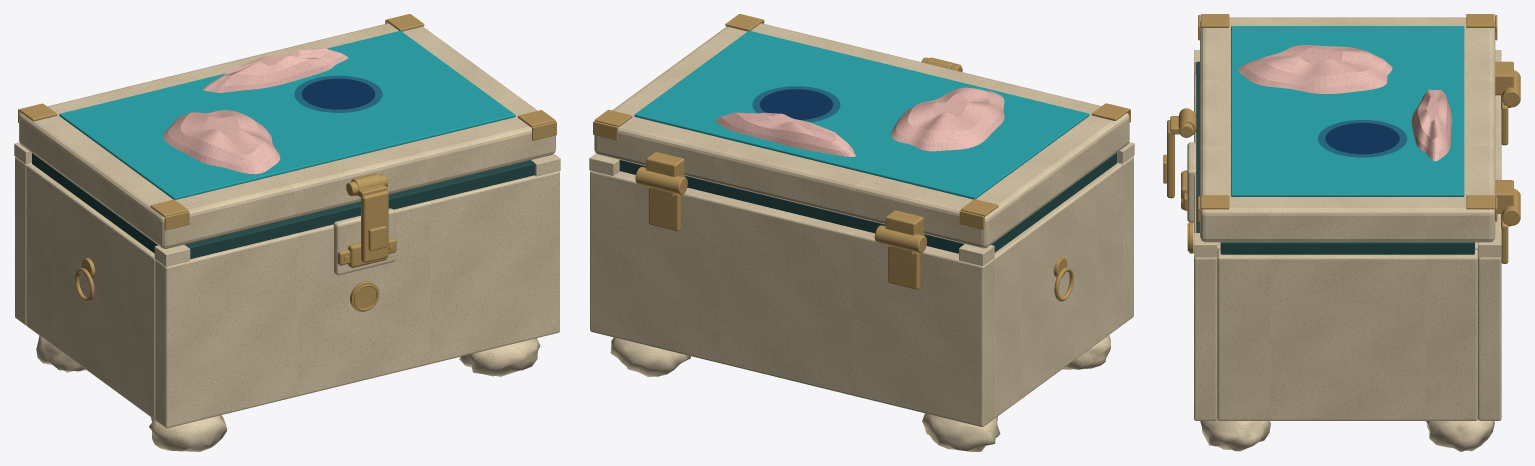
Rendered from bahamas.glb.
The picture shows the model from 3 angles, left to right: view 1: azimuth 30°, elevation 25°; view 2: azimuth 150°, elevation 25°; view 3: azimuth 270°, elevation 25°; orthographic projection.
Parts seen in each view (by area): view 1: Limestone / wall, Lid / polished slab, Lagoon / aquamarine inset, Limestone / side, Mineral seam / long, Pink shore / long bank, Pink shore / northern cay, Granite foot, Limestone / wall.001, Granite foot.002, Blue hole / deep center, Latch / lifting hasp (+6 smaller); view 2: Limestone / wall.001, Lid / polished slab, Lagoon / aquamarine inset, Limestone / side, Pink shore / long bank, Pink shore / northern cay, Mineral seam / long.001, Granite foot.001, Limestone / wall, Granite foot.003, Blue hole / deep center, Mineral seam / side (+10 smaller); view 3: Limestone / side.001, Lagoon / aquamarine inset, Lid / polished slab, Pink shore / long bank, Limestone / wall.001, Limestone / wall, Mineral seam / side.001, Pink shore / northern cay, Blue hole / deep center, Granite foot.002, Granite foot.003, Blue hole / rim (+13 smaller).
Boxes of the visible parts, x1,y1,x2,y2 form: Limestone / wall: (155,171,559,428); Lid / polished slab: (19,23,555,248); Lagoon / aquamarine inset: (59,30,515,199); Limestone / side: (26,164,155,419); Mineral seam / long: (184,160,535,258); Pink shore / long bank: (163,110,280,174); Pink shore / northern cay: (203,48,348,92); Granite foot: (149,415,226,451); Limestone / wall.001: (15,157,31,325); Granite foot.002: (459,338,540,376); Blue hole / deep center: (301,78,375,109); Latch / lifting hasp: (361,190,388,262); Limestone / wall.001: (590,170,993,426); Lid / polished slab: (594,23,1129,248); Lagoon / aquamarine inset: (634,30,1089,199); Limestone / side: (993,163,1122,418); Pink shore / long bank: (891,87,1004,151); Pink shore / northern cay: (715,112,855,156); Mineral seam / long.001: (619,160,964,253); Granite foot.001: (922,413,1000,451); Limestone / wall: (1117,156,1133,324); Granite foot.003: (610,337,690,376); Blue hole / deep center: (759,89,832,119); Mineral seam / side: (991,153,1116,252); Limestone / side.001: (1217,249,1477,420); Lagoon / aquamarine inset: (1231,26,1464,196); Lid / polished slab: (1200,17,1495,242); Pink shore / long bank: (1238,45,1392,93); Limestone / wall.001: (1478,95,1501,420); Limestone / wall: (1194,74,1217,420); Mineral seam / side.001: (1220,242,1474,254); Pink shore / northern cay: (1411,89,1452,161); Blue hole / deep center: (1325,123,1399,154); Granite foot.002: (1200,419,1270,451); Granite foot.003: (1426,419,1494,451); Blue hole / rim: (1318,120,1407,157).
Bounding box in the file's own units: 3.79 × 2.48 × 2.88.
7 materials, 2 textured.
